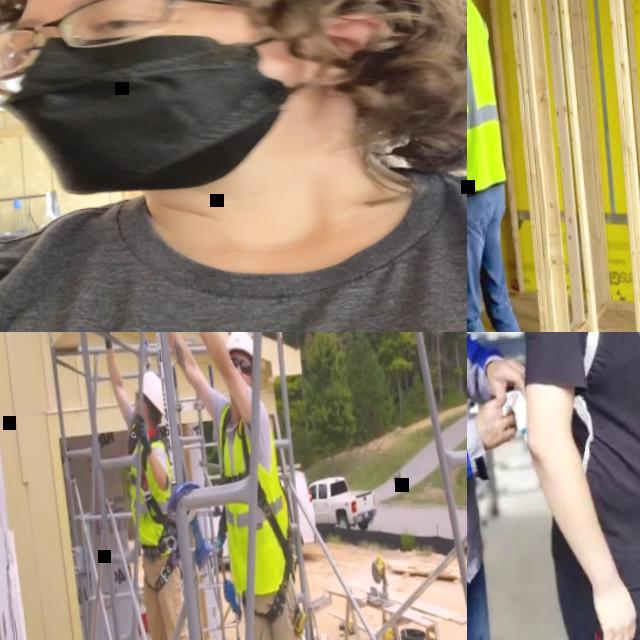helmet: (135, 368, 164, 415), (224, 332, 253, 357)
vest: (214, 398, 292, 596), (467, 0, 508, 196), (122, 422, 178, 556)
